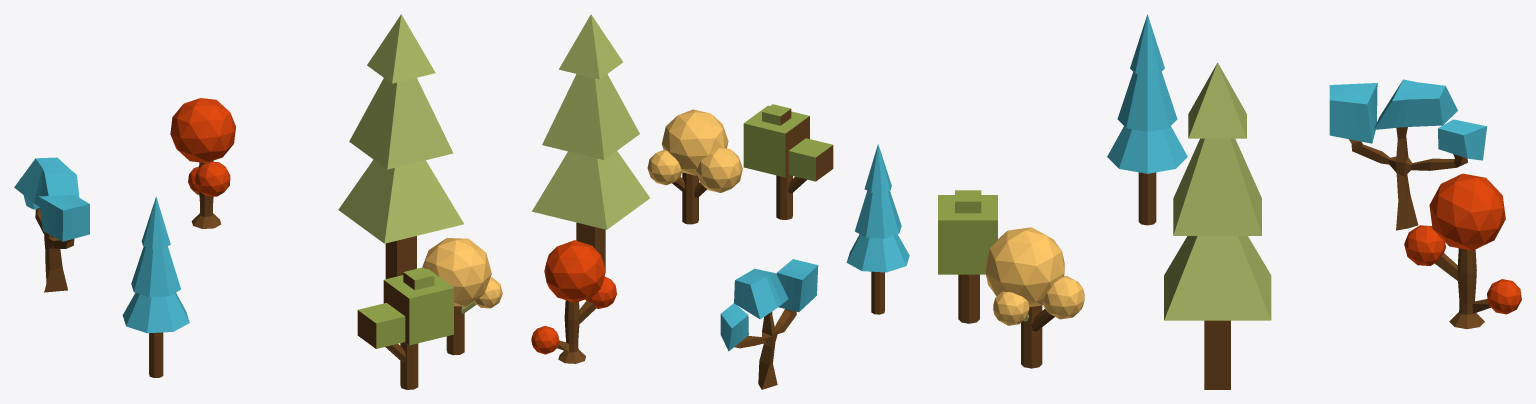
File: trees.glb
3 renders of one model, left to right at view 1: azimuth 30°, elevation 25°; view 2: azimuth 150°, elevation 25°; view 3: azimuth 270°, elevation 25°, orthographic. The views are drawn at different scales.
Visible parts, largest first — view 1: Tree6; view 2: Tree6; view 3: Tree6.
Boxes of the visible parts, x1=… form: Tree6: x1=14, y1=14, x2=502, y2=389; Tree6: x1=531, y1=14, x2=909, y2=389; Tree6: x1=938, y1=14, x2=1521, y2=389.
Bounding box in the file's own units: 25.85 × 19.84 × 32.59.
